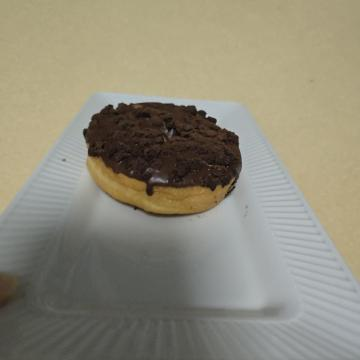doughnut: (93, 109, 226, 294)
